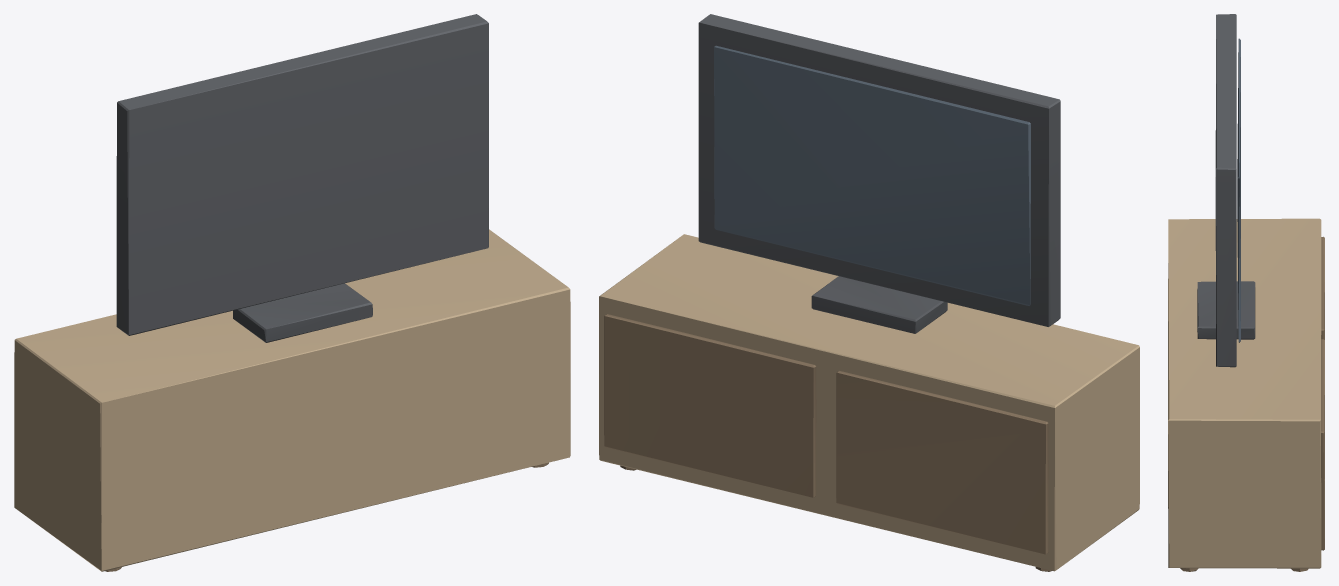
The model's file is furn_tv_stand__oak_low.glb.
The picture shows the model from 3 angles, left to right: view 1: azimuth 30°, elevation 25°; view 2: azimuth 150°, elevation 25°; view 3: azimuth 270°, elevation 25°; orthographic projection. The views are drawn at different scales.
Size of the model in its own units: 1.3 by 1.16 by 0.4273.
